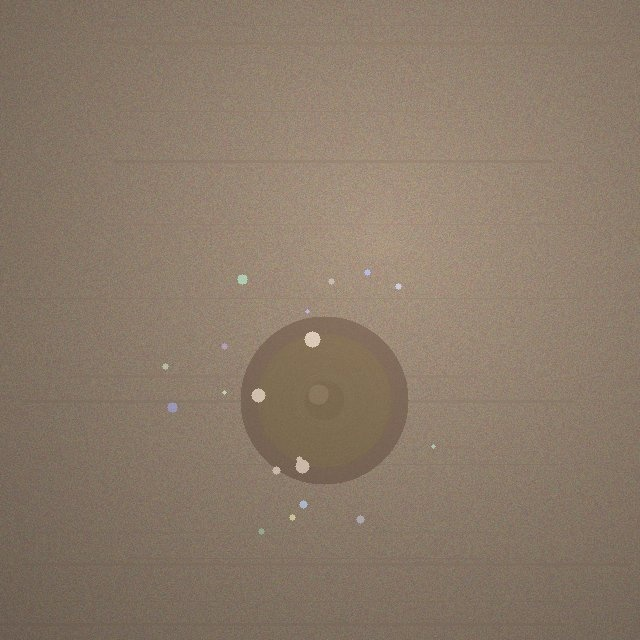overburn: (240, 316, 408, 484)
